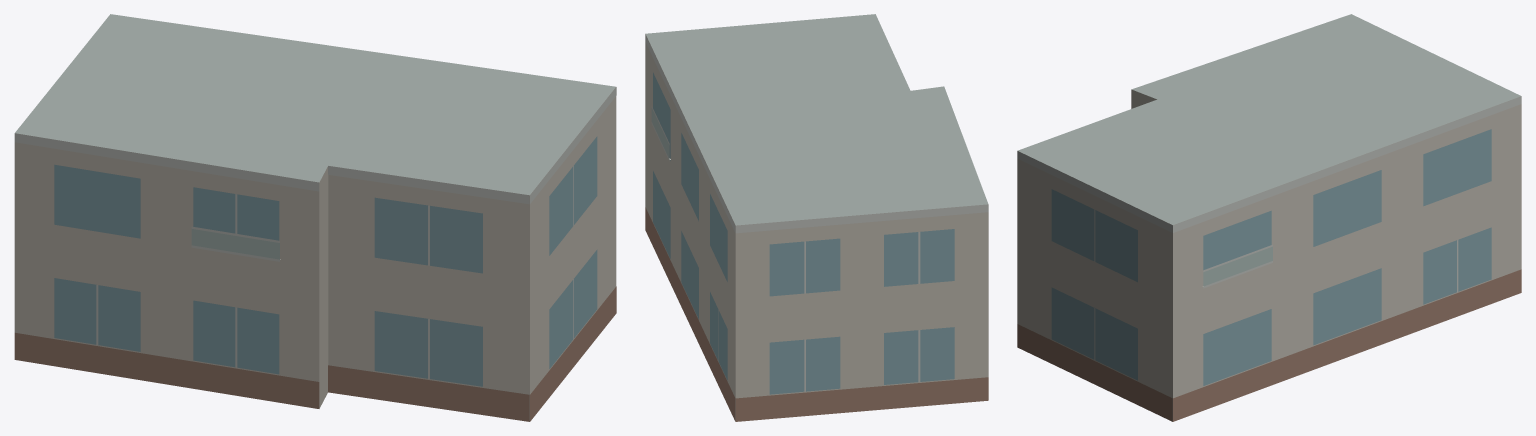
Rendered from survey-upis-32888185.glb.
3 views of the same model, side by side, from view 1: azimuth 30°, elevation 25°; view 2: azimuth 150°, elevation 25°; view 3: azimuth 270°, elevation 25° (orthographic). The views are drawn at different scales.
Parts seen in each view (by area): view 1: survey-upis-32888185.tmp; view 2: survey-upis-32888185.tmp; view 3: survey-upis-32888185.tmp.
Boxes of the visible parts, <box> form: survey-upis-32888185.tmp: <box>14,14,616,421</box>; survey-upis-32888185.tmp: <box>645,14,988,421</box>; survey-upis-32888185.tmp: <box>1017,14,1521,421</box>.
Size of the model in its own units: 14.06 by 6.1 by 14.19.
